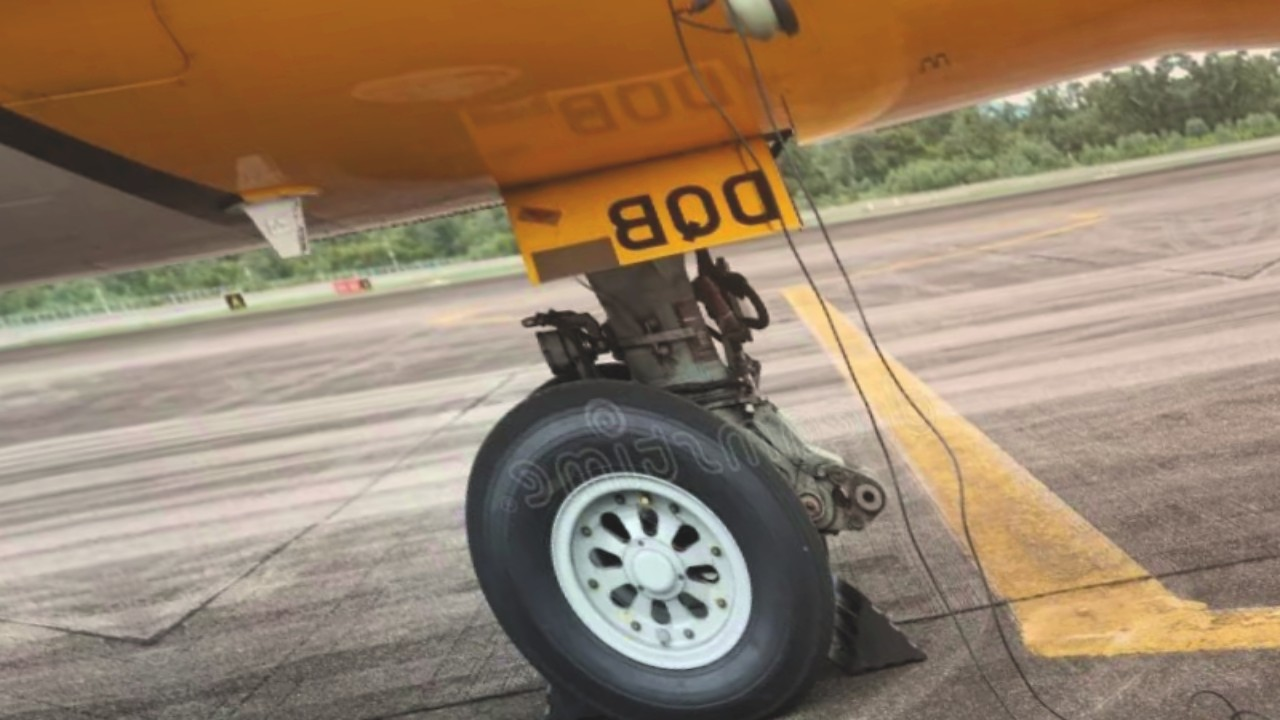chock: (796, 562, 930, 679)
wheel: (391, 332, 897, 720)
